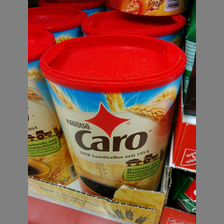coffee: (39, 34, 187, 199)
